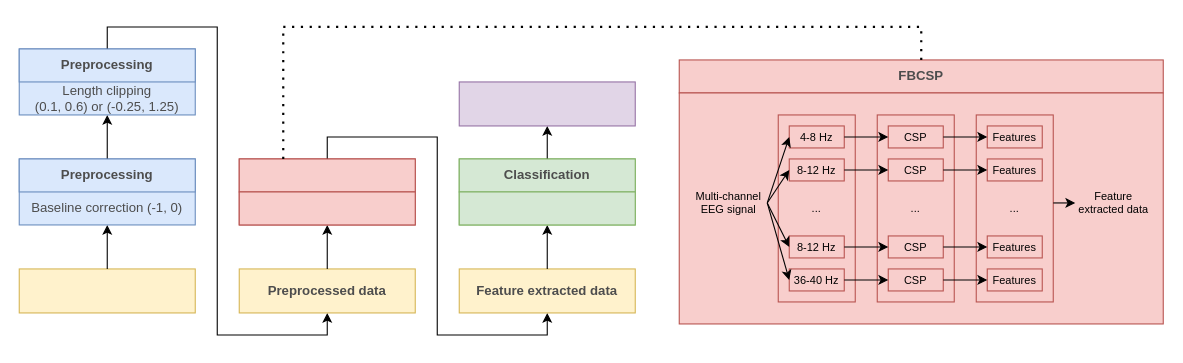
Some shapes in this 1183 by 363 pixel diagram are drawn without their labels. The shapes that lost their labels are listed below. From the top down, each one's centre as x and y in pixels, then its label:
At [546,103]: "MI class prediction".
At [326,175]: "Feature engineering".
At [326,208]: "Hypertuned FBCSP".
At [546,208]: "Hypertuned LDA, SVM or RF".
At [106,290]: "Windowed data".
